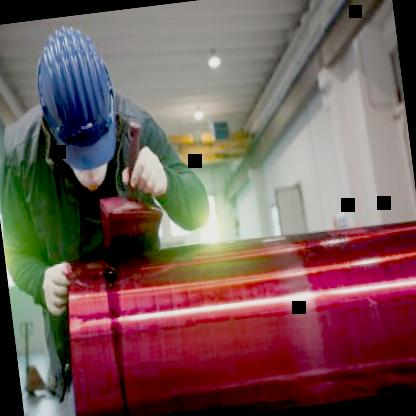helmet: (26, 13, 127, 190)
